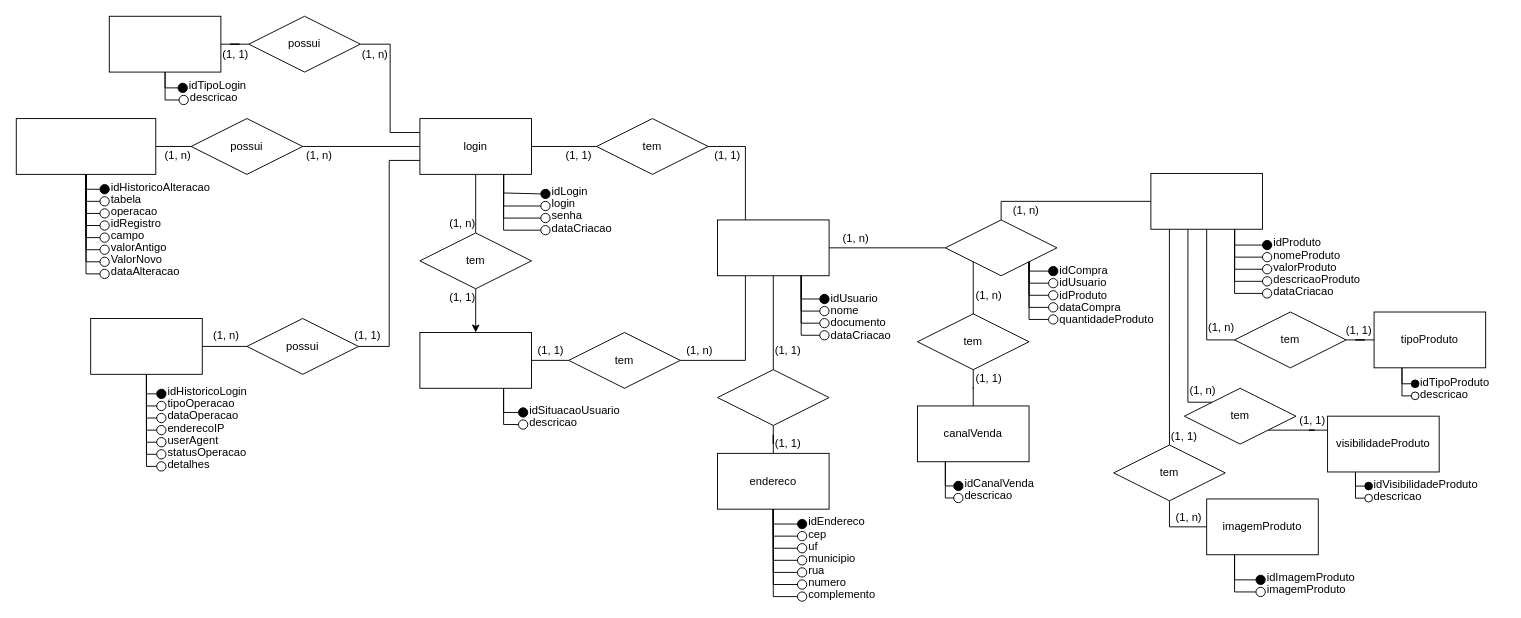
This 1521x618 diagram has some shape labels left out. Here are the shapes that lost their labels. From the top down, the centre of each, then its label:
the point at 164,43: tipoLogin
the point at 85,146: hitoricoAlteracoesUsuario
the point at 1206,201: produto
the point at 773,247: usuario
the point at 1000,247: compra
the point at 146,346: historicoLogin
the point at 475,360: situacaoUsuario
the point at 773,397: reside
